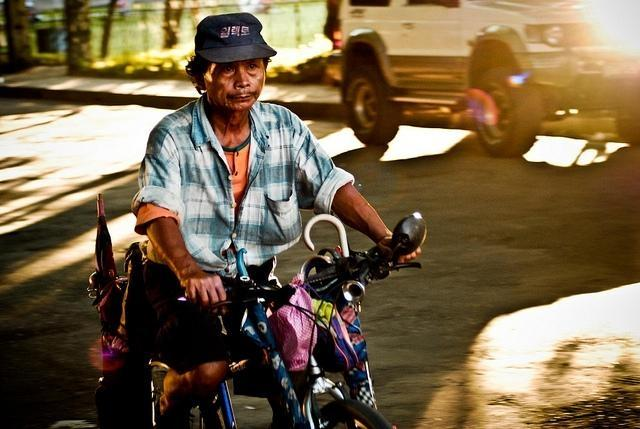bicycle: (242, 217, 426, 424)
car: (339, 4, 640, 150)
motorcycle: (75, 204, 433, 424)
truck: (337, 0, 640, 160)
